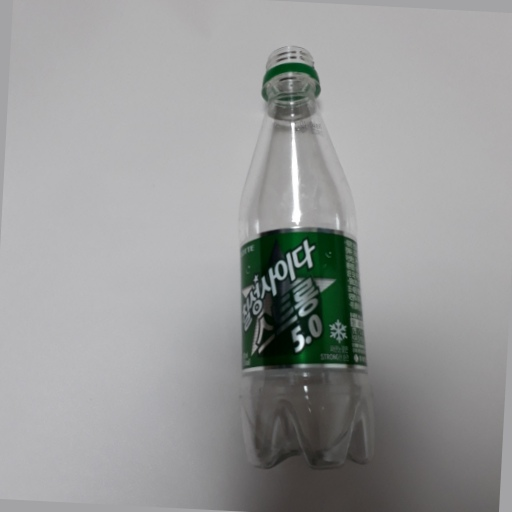Plastic_0: (234, 44, 377, 477)
